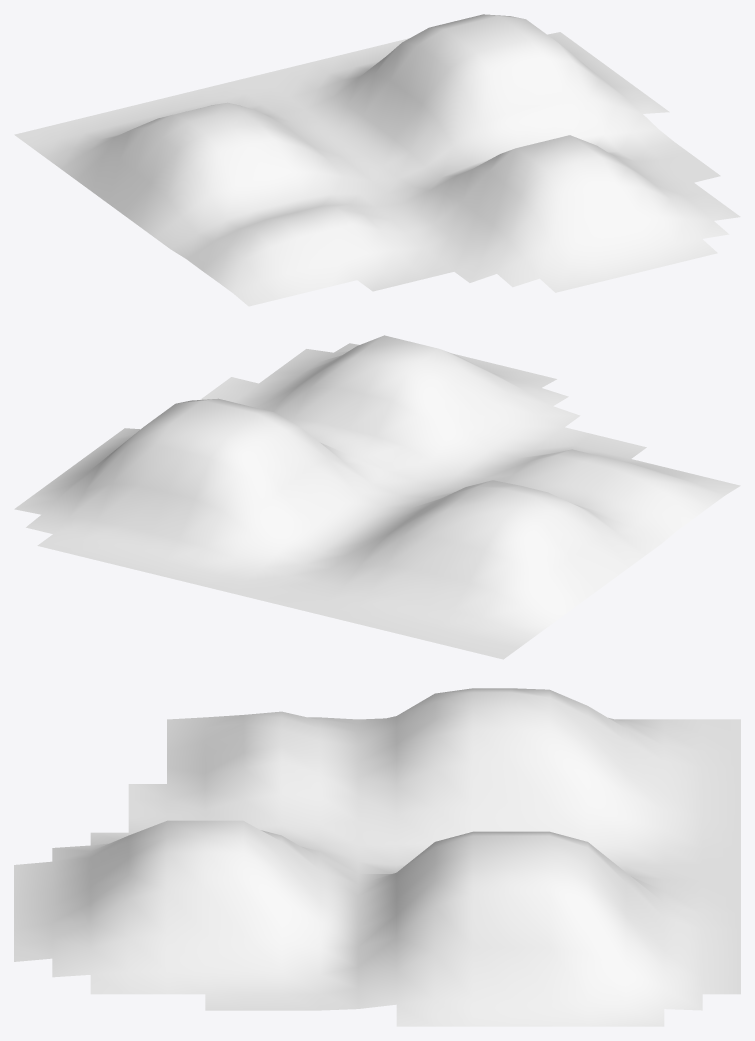
File: Snow Mound 2.fbx
3 renders of one model, top to bottom at view 1: azimuth 30°, elevation 25°; view 2: azimuth 150°, elevation 25°; view 3: azimuth 270°, elevation 25°, orthographic. The views are drawn at different scales.
Visible parts, largest first — view 1: DirtMound_2; view 2: DirtMound_2; view 3: DirtMound_2.
Boxes of the visible parts, x1,y1,x2,y2 form: DirtMound_2: (14, 14, 740, 306); DirtMound_2: (14, 335, 740, 659); DirtMound_2: (14, 688, 740, 1026).
Bounding box in the file's own units: 129 × 18.25 × 129.
1 material, 1 textured.
